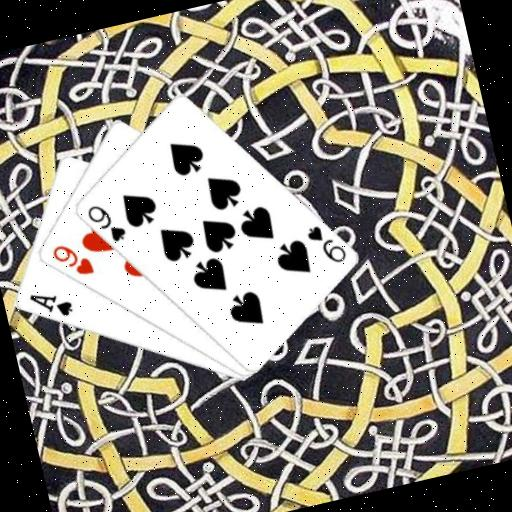9H: (47, 236, 96, 284)
9S: (81, 197, 129, 250), (301, 217, 349, 270)
AS: (25, 283, 76, 326)
